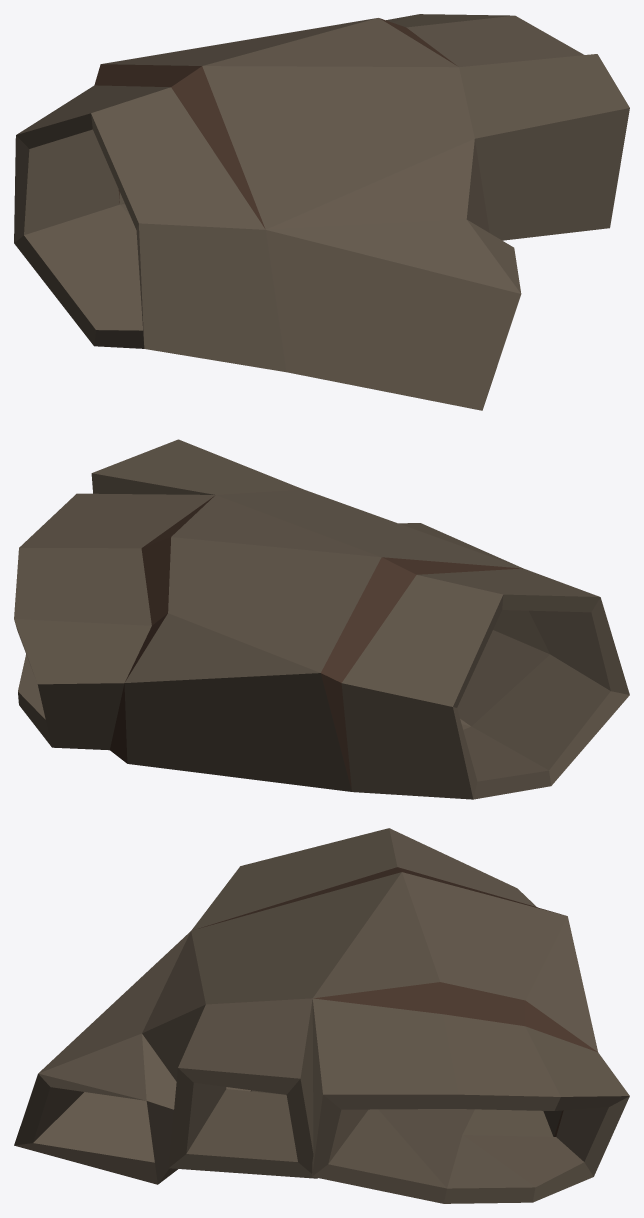
File: Chr_HandLeft_Female_04_Drop.fbx
3 renders of one model, top to bottom at view 1: azimuth 30°, elevation 25°; view 2: azimuth 150°, elevation 25°; view 3: azimuth 270°, elevation 25°, orthographic. The views are drawn at different scales.
Parts seen in each view (by area): view 1: Chr_HandLeft_Female_04_Static; view 2: Chr_HandLeft_Female_04_Static; view 3: Chr_HandLeft_Female_04_Static.
Boxes of the visible parts, left/top/right/bottom form: Chr_HandLeft_Female_04_Static: left=14, top=14, right=629, bottom=410; Chr_HandLeft_Female_04_Static: left=14, top=439, right=629, bottom=799; Chr_HandLeft_Female_04_Static: left=14, top=828, right=629, bottom=1203.
Size of the model in its own units: 16.08 by 7.77 by 16.77.
